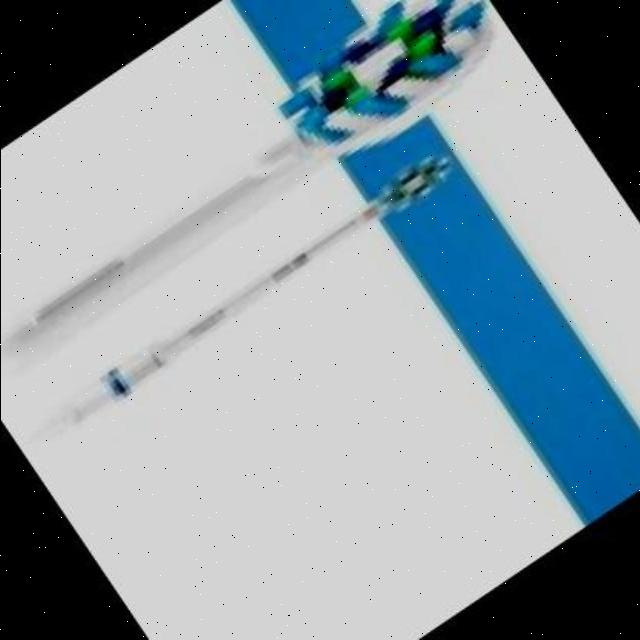toothbrush: (2, 0, 532, 418)
